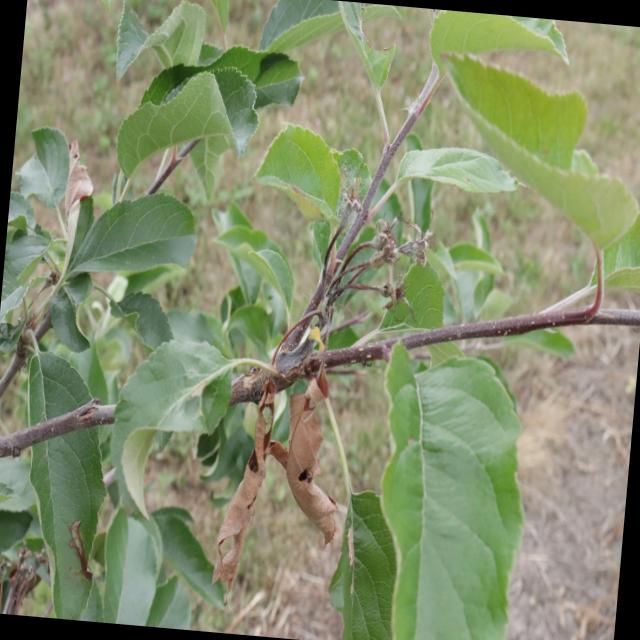-FireBlight-: (272, 388, 353, 546), (211, 481, 257, 596), (241, 378, 281, 508)
